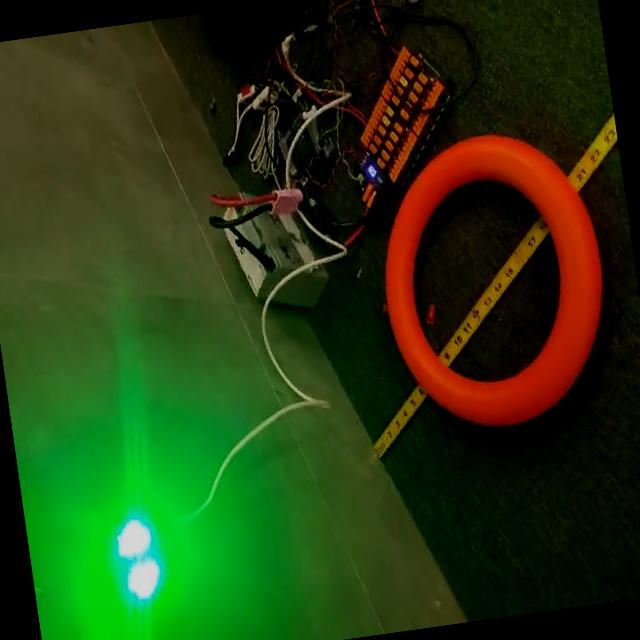note: (363, 125, 627, 442)
